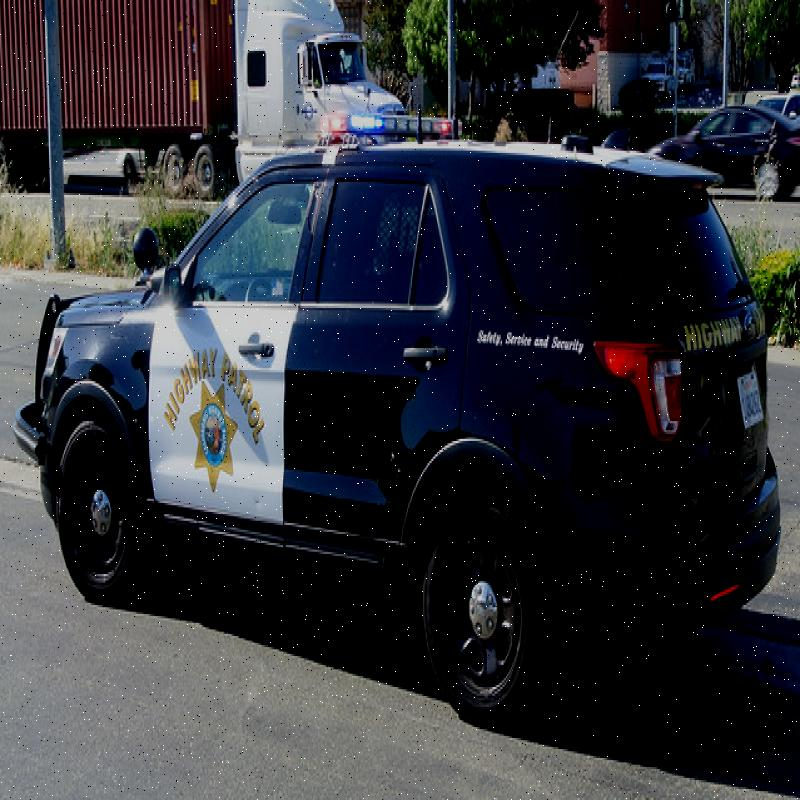AmbulanceSiren: (302, 70, 468, 170)
